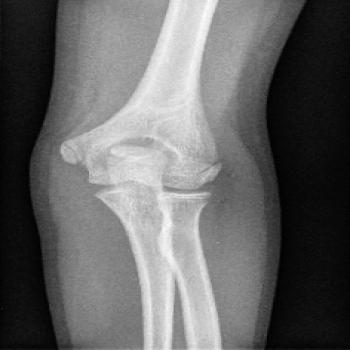Fracture: (192, 151, 235, 181)
